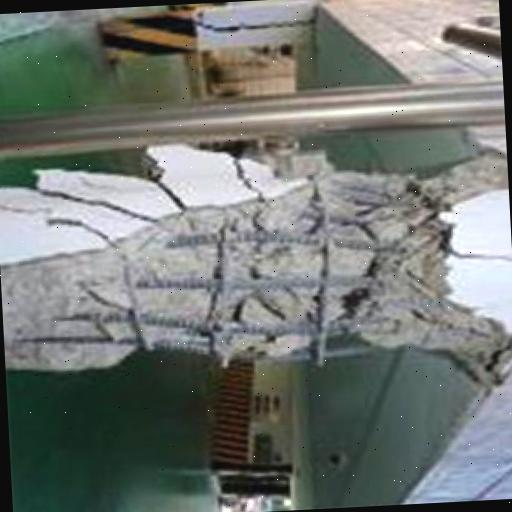spalling: (3, 172, 497, 370)
